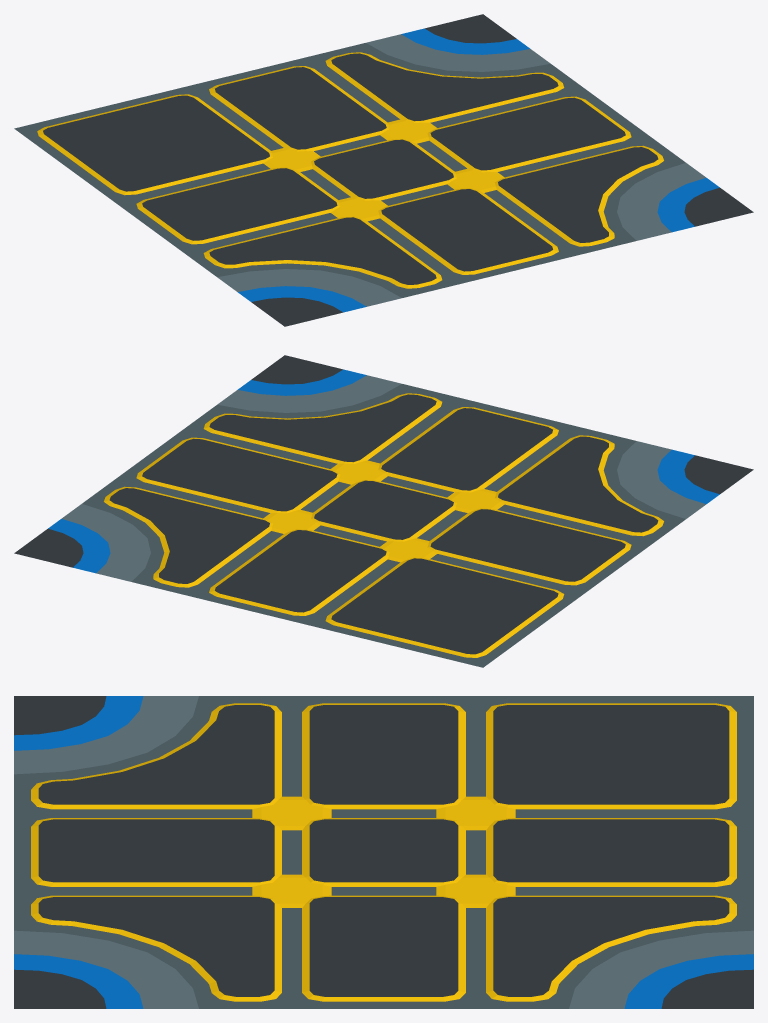
The model's file is Floor_type_C_023.glb.
3 views of the same model, one above another, from view 1: azimuth 30°, elevation 25°; view 2: azimuth 150°, elevation 25°; view 3: azimuth 270°, elevation 25° (orthographic). The views are drawn at different scales.
Parts seen in each view (by area): view 1: Floor_type_C_023; view 2: Floor_type_C_023; view 3: Floor_type_C_023.
Part boxes in pixels (left/top/right/bottom): Floor_type_C_023: left=14, top=14, right=753, bottom=326; Floor_type_C_023: left=14, top=355, right=753, bottom=667; Floor_type_C_023: left=14, top=696, right=753, bottom=1008.
Size of the model in its own units: 4 by 0.0134 by 4.
2 materials, 2 textured.
